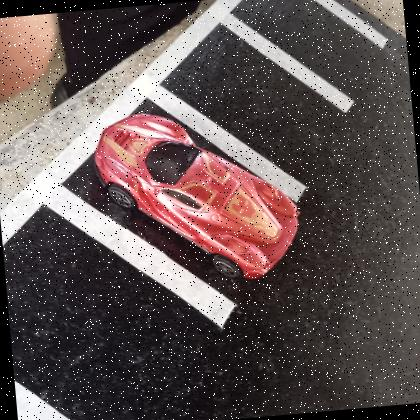Car: (92, 112, 299, 281)
